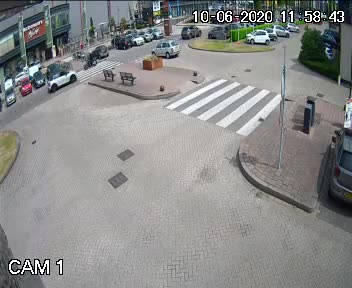car: (145, 38, 181, 64), (43, 65, 79, 91), (177, 23, 201, 40)
